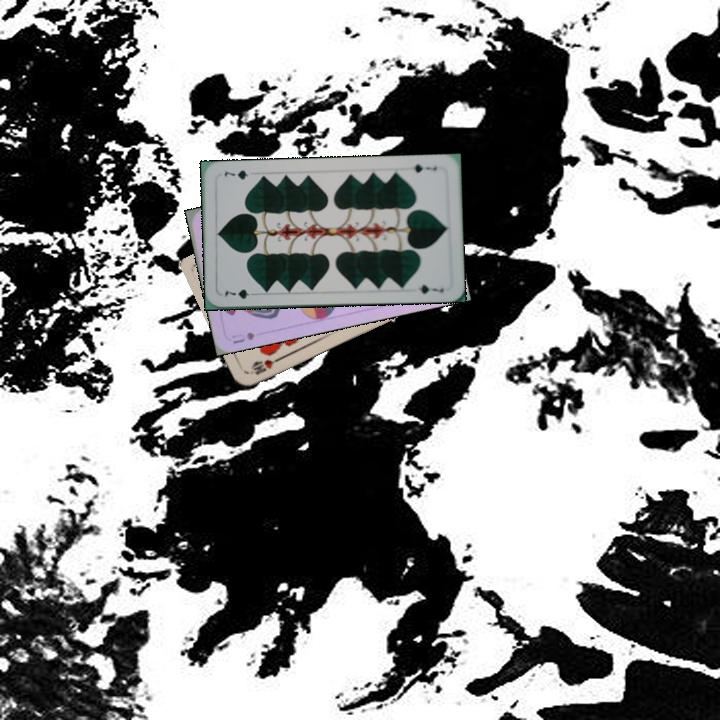G7: (221, 285, 260, 301), (404, 160, 440, 175)
H10: (247, 353, 283, 377)
SU: (228, 328, 257, 346)
